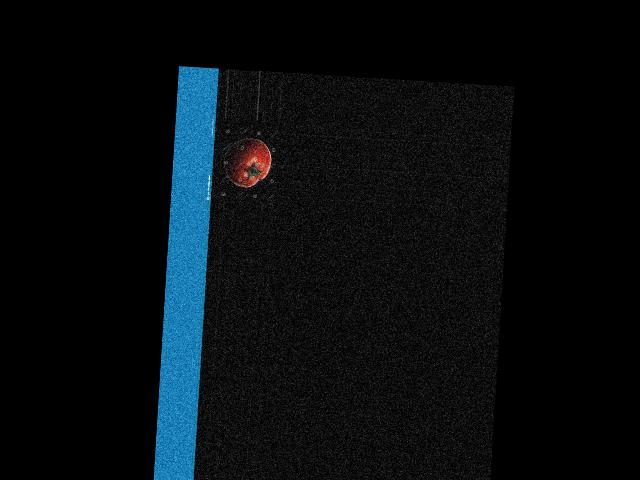tomato: (222, 136, 272, 188)
